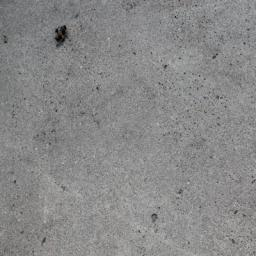FOD: (54, 23, 71, 48)
